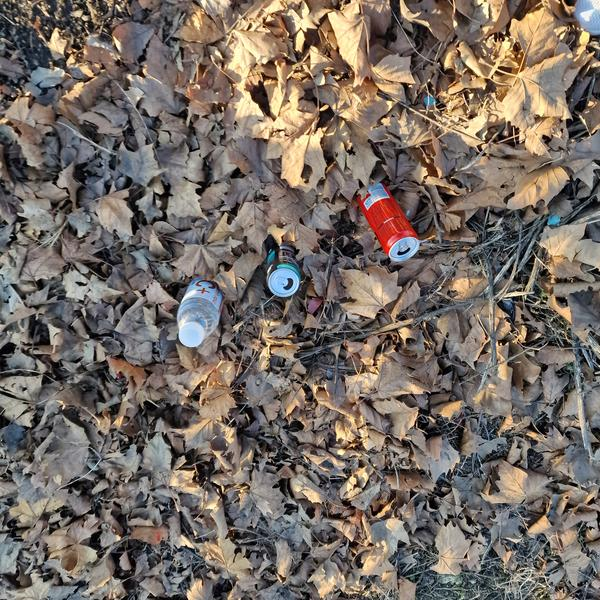can: (349, 175, 424, 268), (265, 243, 301, 298)
plastic_bottle: (169, 271, 229, 354)
